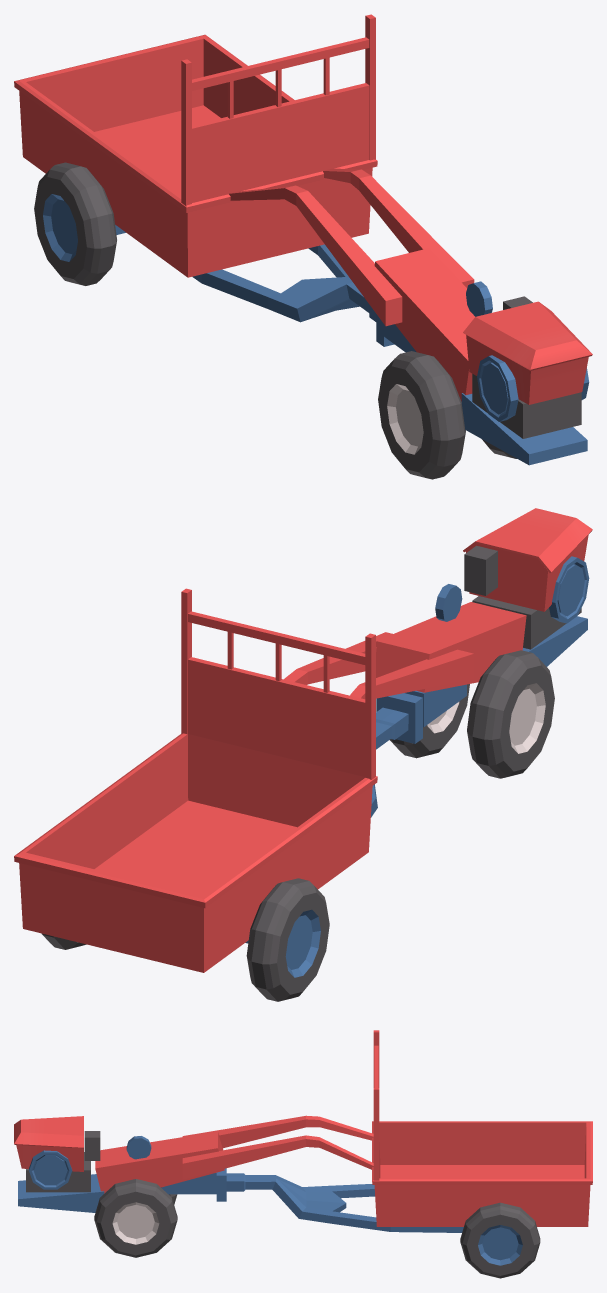
File: Tractor_01.fbx
3 views of the same model, one above another, from view 1: azimuth 30°, elevation 25°; view 2: azimuth 150°, elevation 25°; view 3: azimuth 270°, elevation 25° (orthographic). The views are drawn at different scales.
Visible parts, largest first — view 1: Tractor01; view 2: Tractor01; view 3: Tractor01.
Part boxes in pixels (bbox=[...]): Tractor01: bbox=[14, 14, 592, 479]; Tractor01: bbox=[14, 508, 592, 1001]; Tractor01: bbox=[14, 1030, 592, 1278].
Size of the model in its own units: 124 by 401 by 140.
